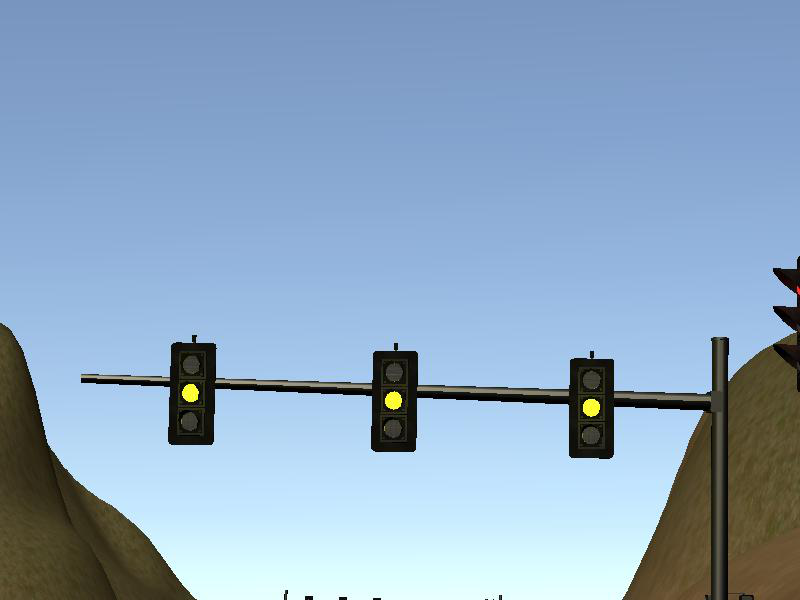yellow: (569, 356, 615, 460), (172, 341, 217, 446), (372, 352, 416, 455)
